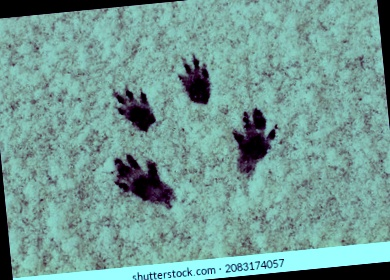ecureuil: (102, 142, 182, 221), (225, 98, 288, 184), (105, 75, 162, 138), (168, 44, 216, 111)
